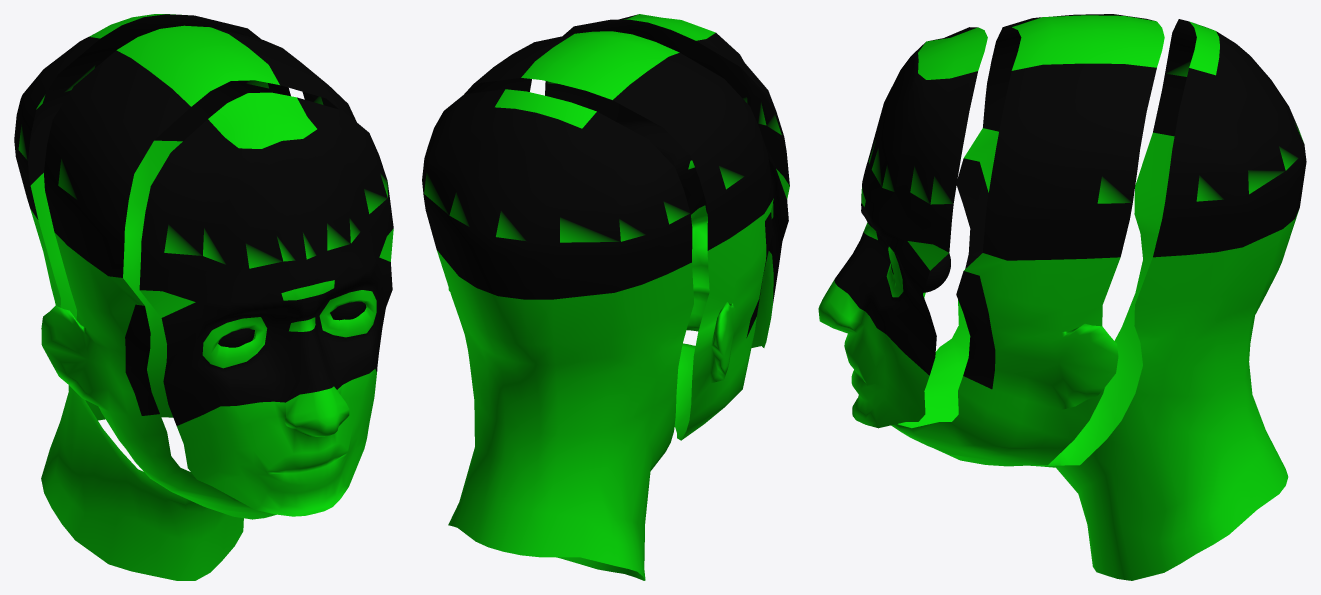
3 views of the same model, side by side, from view 1: azimuth 30°, elevation 25°; view 2: azimuth 150°, elevation 25°; view 3: azimuth 270°, elevation 25° (orthographic). The views are drawn at different scales.
Parts seen in each view (by area): view 1: pSphere3; view 2: pSphere3; view 3: pSphere3.
Part boxes in pixels (x1,y1,x2,y2): pSphere3: (14, 14, 393, 580); pSphere3: (422, 14, 789, 580); pSphere3: (818, 14, 1306, 580).
Bounding box in the file's own units: 0.3331 × 0.5981 × 0.4924.
